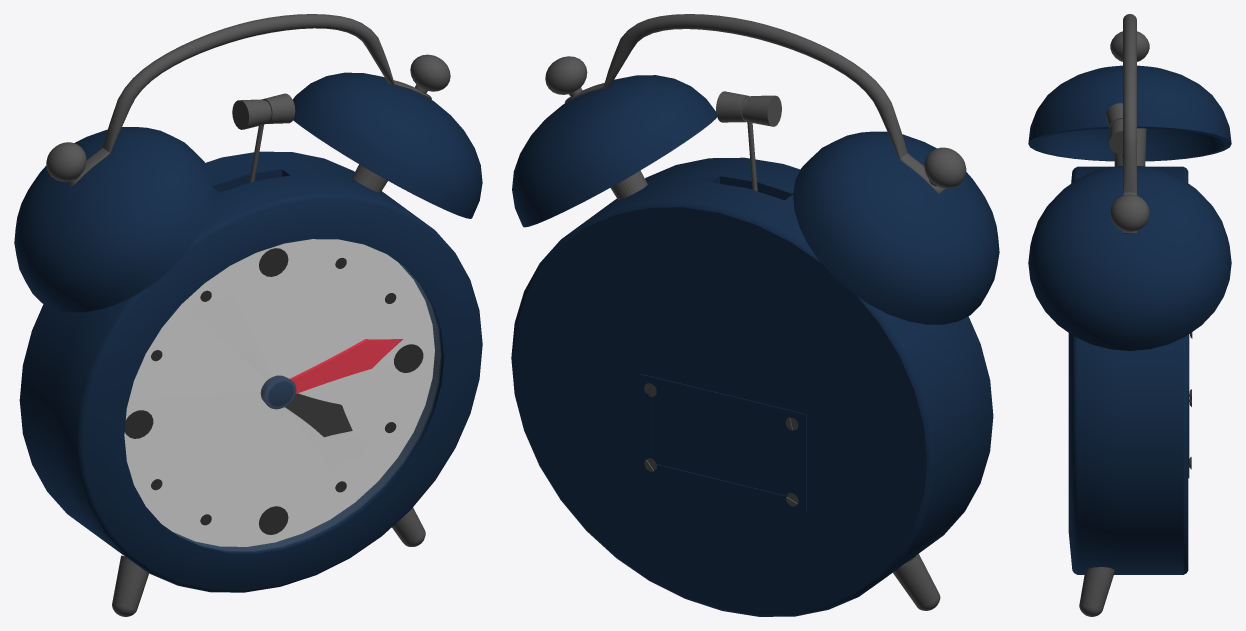
File: Alarm Clock.FBX
3 views of the same model, side by side, from view 1: azimuth 30°, elevation 25°; view 2: azimuth 150°, elevation 25°; view 3: azimuth 270°, elevation 25° (orthographic). The views are drawn at different scales.
Parts seen in each view (by area): view 1: Cylinder030; view 2: Cylinder030; view 3: Cylinder030.
Boxes of the visible parts, bbox=[...] form: Cylinder030: bbox=[14, 14, 482, 616]; Cylinder030: bbox=[511, 14, 999, 616]; Cylinder030: bbox=[1028, 14, 1231, 616].
Bounding box in the file's own units: 1682 × 2004 × 724.
